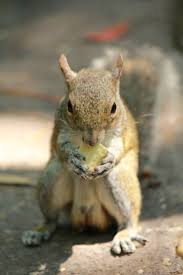Ardilla: (31, 46, 156, 252)
